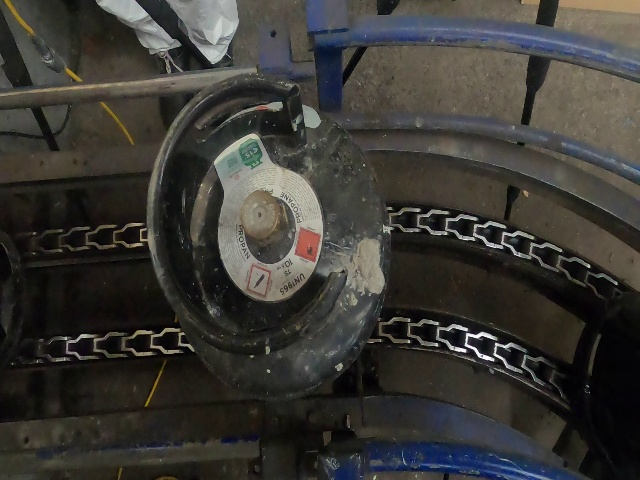gas_bottle: (0, 0, 625, 478)
